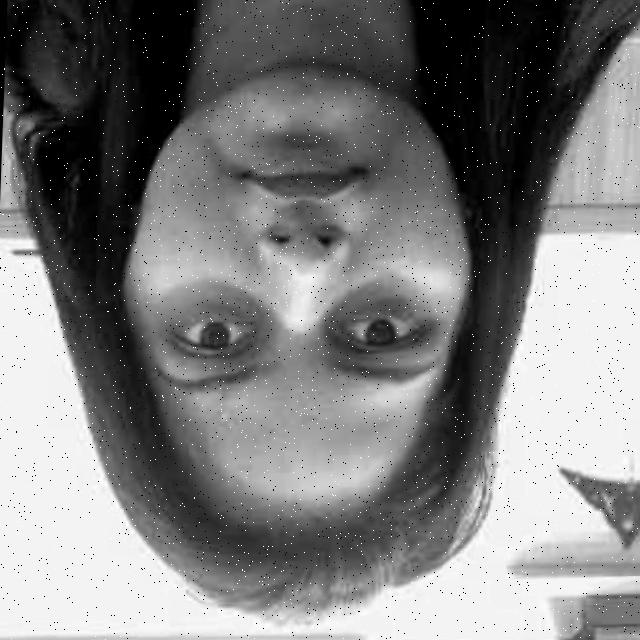puffy_eyes: (322, 279, 424, 348), (156, 282, 260, 330)
